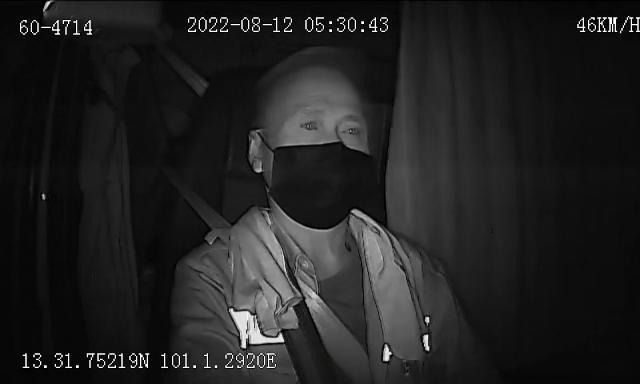SafeDriving: (336, 118, 366, 142), (296, 114, 326, 136)
Seatbelt: (180, 188, 372, 384)
